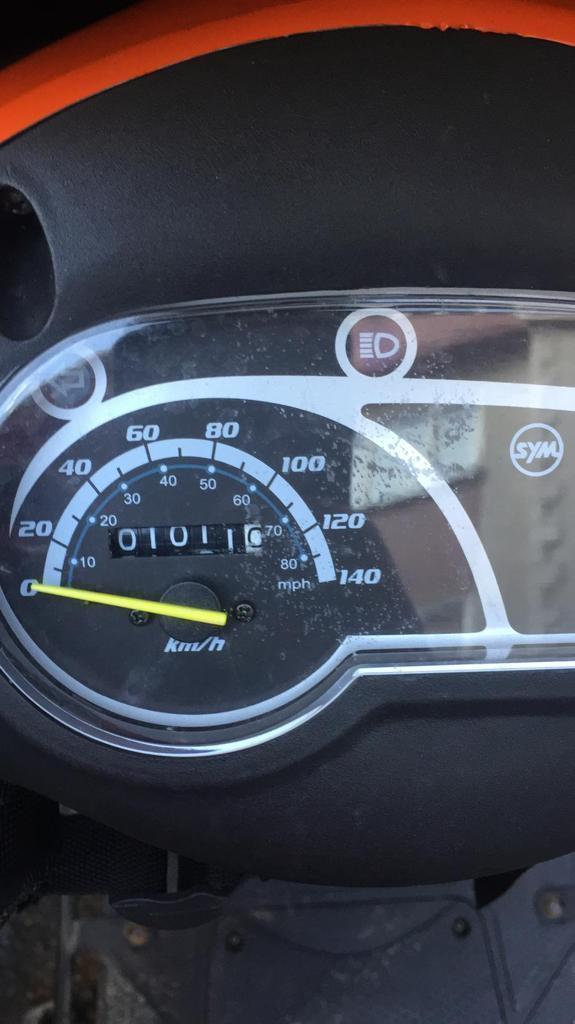0: (168, 523, 190, 549), (117, 526, 137, 552), (245, 523, 264, 550)
1: (146, 523, 160, 552), (223, 527, 238, 554), (198, 522, 210, 546)
odometer: (106, 519, 266, 559)
